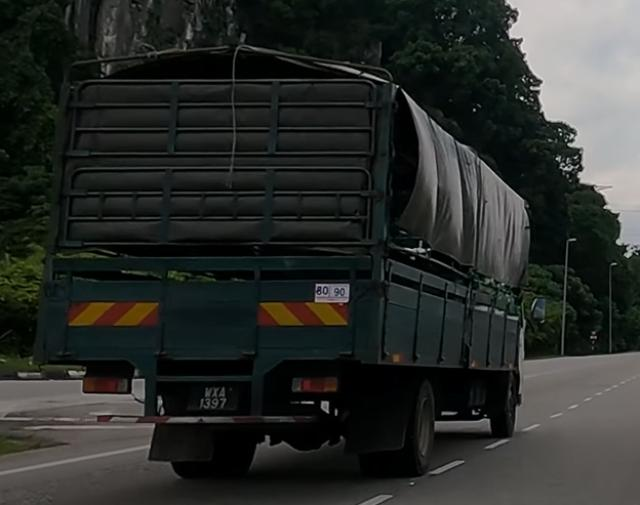License_Plate: (186, 383, 241, 414)
